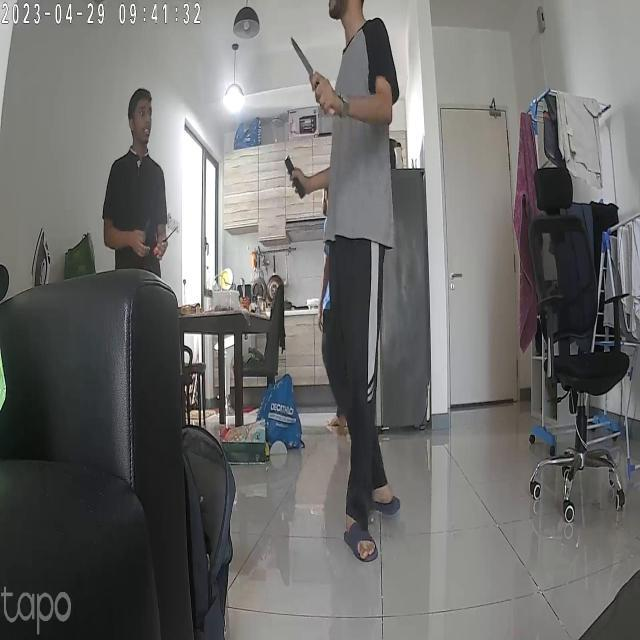Knife: (285, 30, 331, 109), (156, 220, 184, 255)
